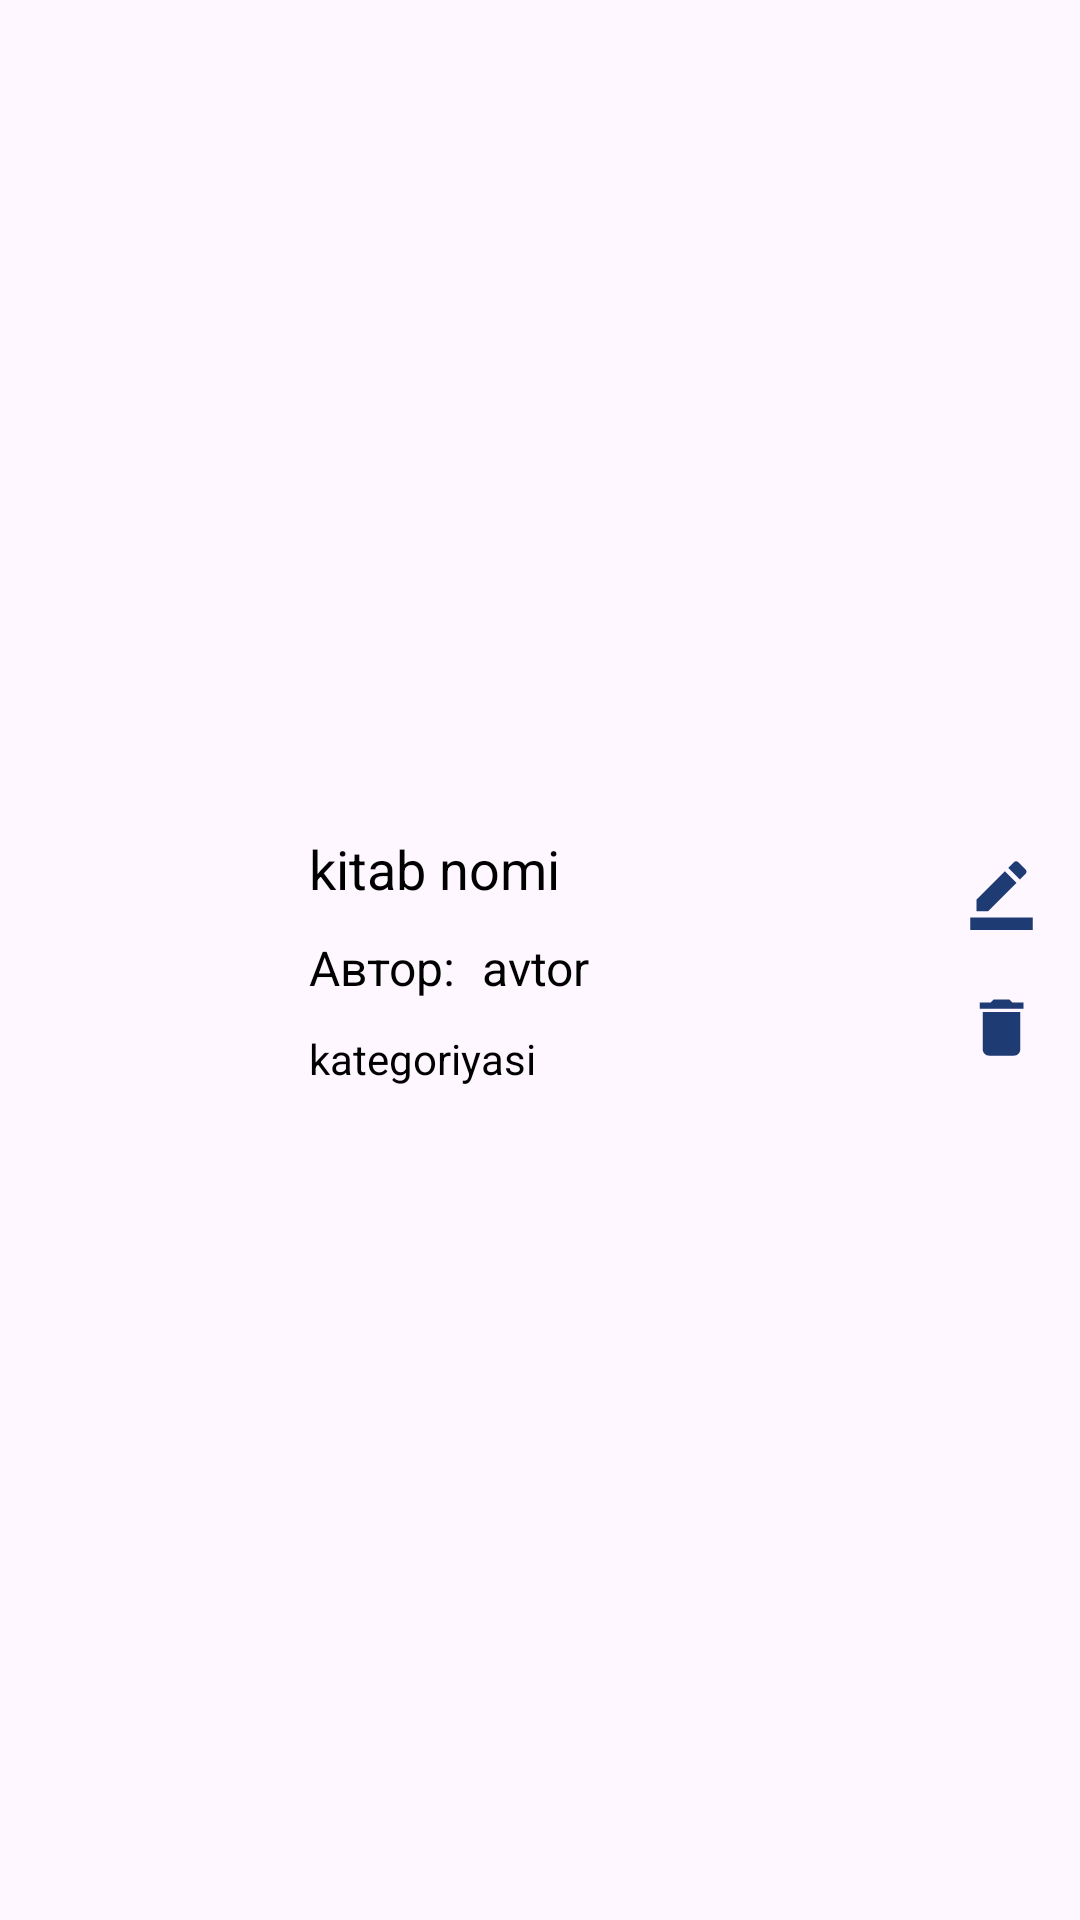

Screen size 1080 x 1920. Icon name, then its box in pixels as (x1, y1, x2, y2):
delete: (979, 999, 1024, 1056)
